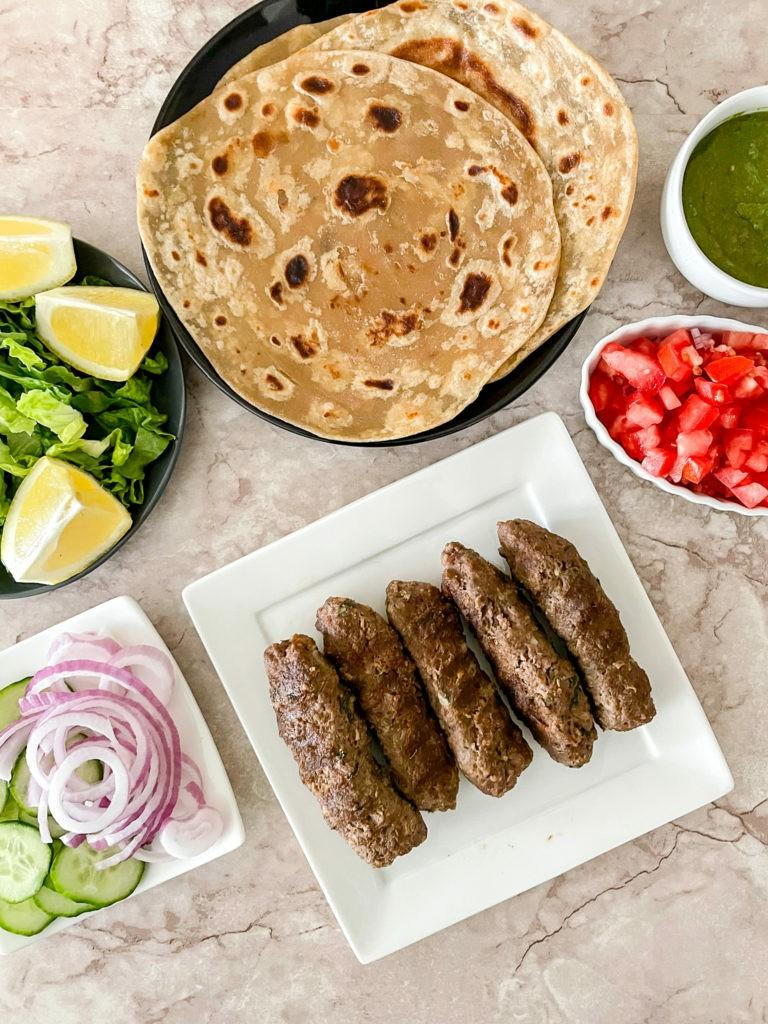GreenChutney: (680, 114, 768, 289)
Kebab: (261, 633, 428, 870), (439, 540, 598, 769), (498, 518, 658, 733), (385, 579, 534, 798), (314, 596, 460, 814)
